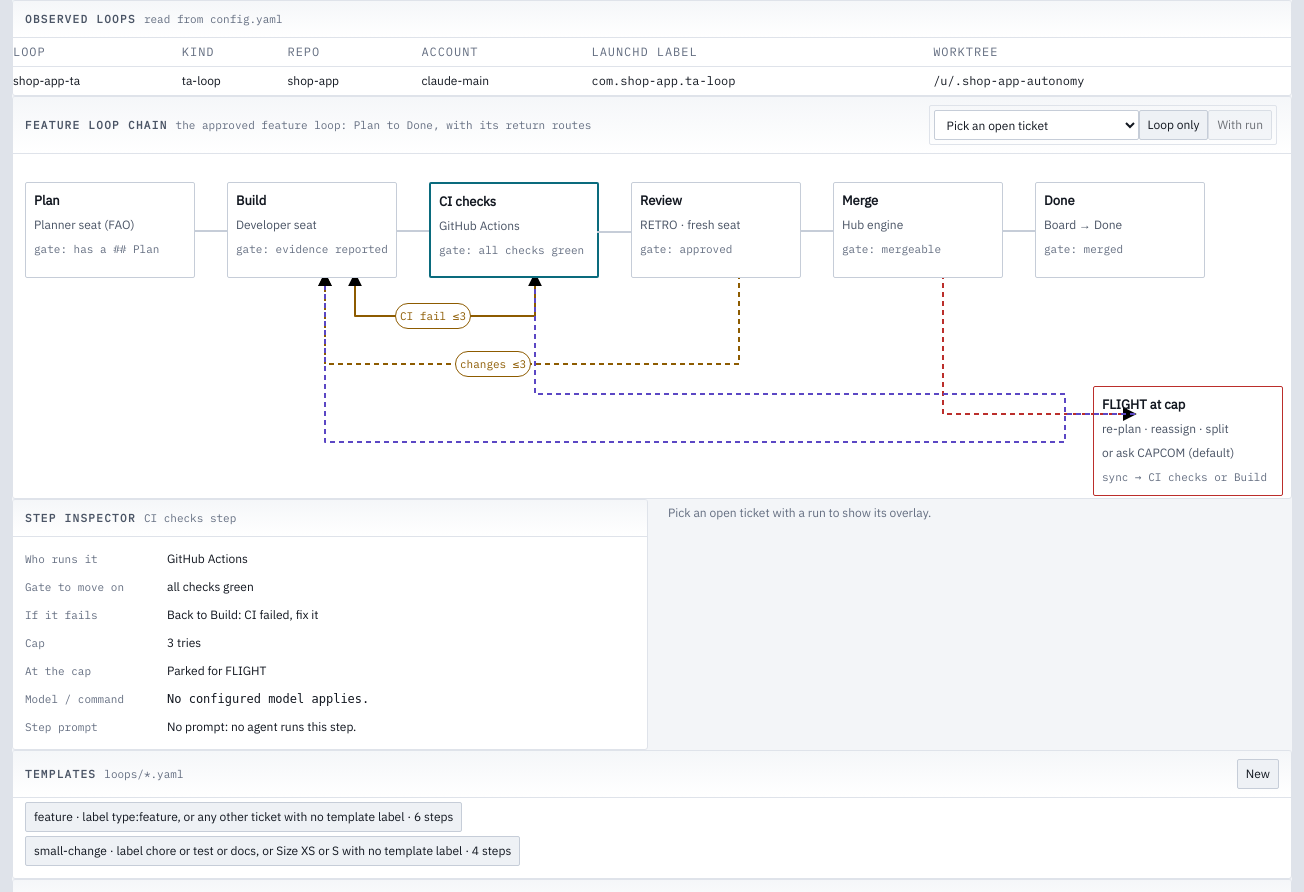
Test: Setup › Loops templates › uses the picked ticket's run history and configured seat models
This screenshot has width=1304, height=892.
Check: the text "Pick an open ticket with a run to show its overlay." is shown, box [668,505,931,520]
Step 1. Select "shop-app#3349 · Quote cache" in the dropdown named "Ticket with run" → (1036, 125), box [934,110,1139,140]
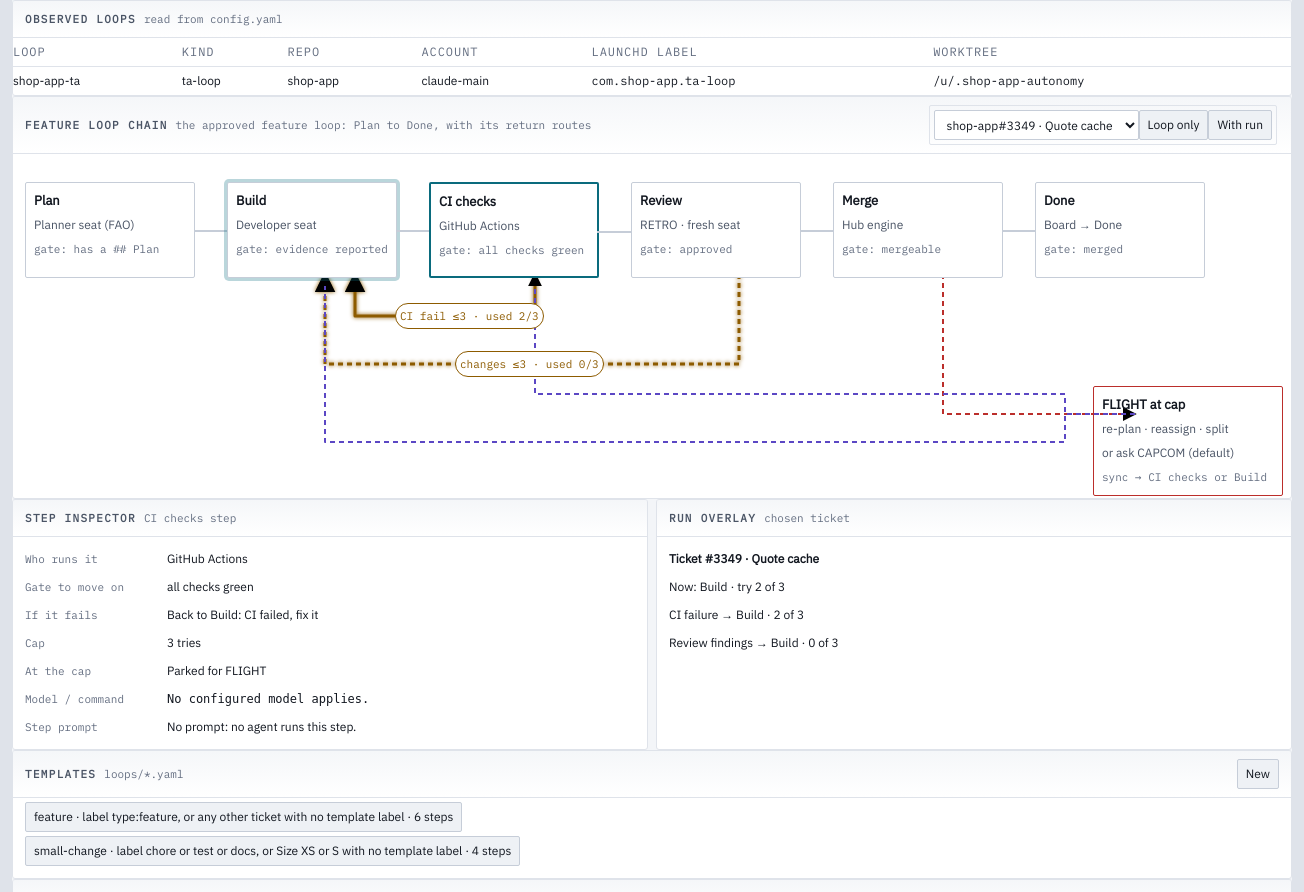
Check: the text "CI fail ≤3 · used 2/3" is shown, box [395,303,544,329]
Check: the element "Run overlay" shows "Ticket #3349 · Quote cache", box [669,551,819,566]
Check: the element "Run overlay" shows "Now: Build · try 2 of 3", box [669,579,785,594]
Step 2. Click the button with aria-label "Build: gate" → (312, 230), box [227,182,397,278]
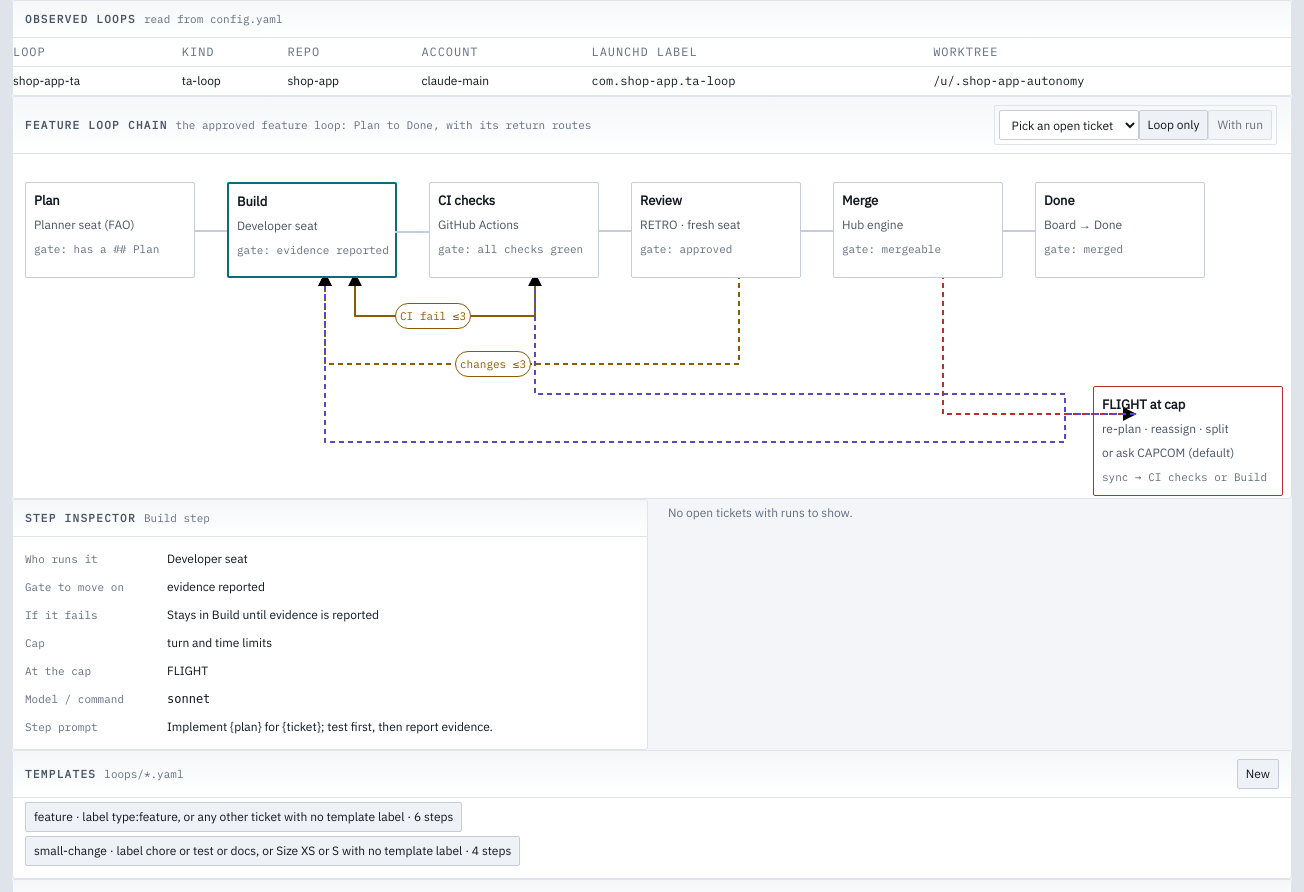
Check: the text "CI fail ≤3 · used 2/3" is gone
